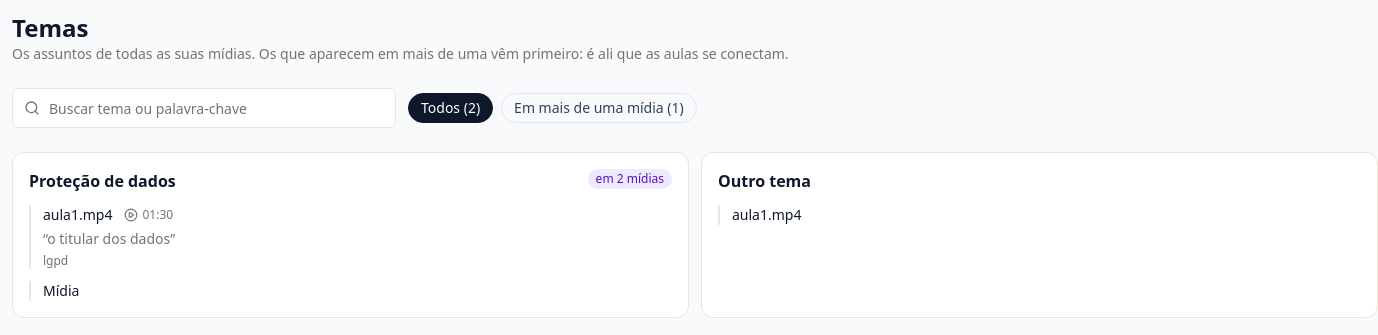
Scenario: Temas › destaca os temas que aparecem em mais de uma mídia, com o link para o trecho
Expected: the text "em 2 mídias" is shown, [588,169,672,189]
What coordinates should you click on to do the following:
click the button "Em mais de uma mídia (1)"
I would click on:
 (599, 108)
Its box is [501,93,697,123].
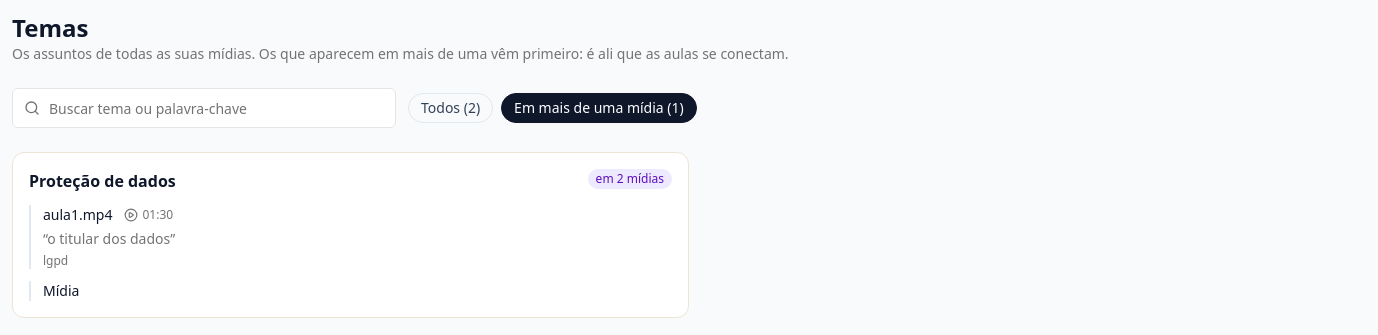
Now the heading "Outro tema" is gone
